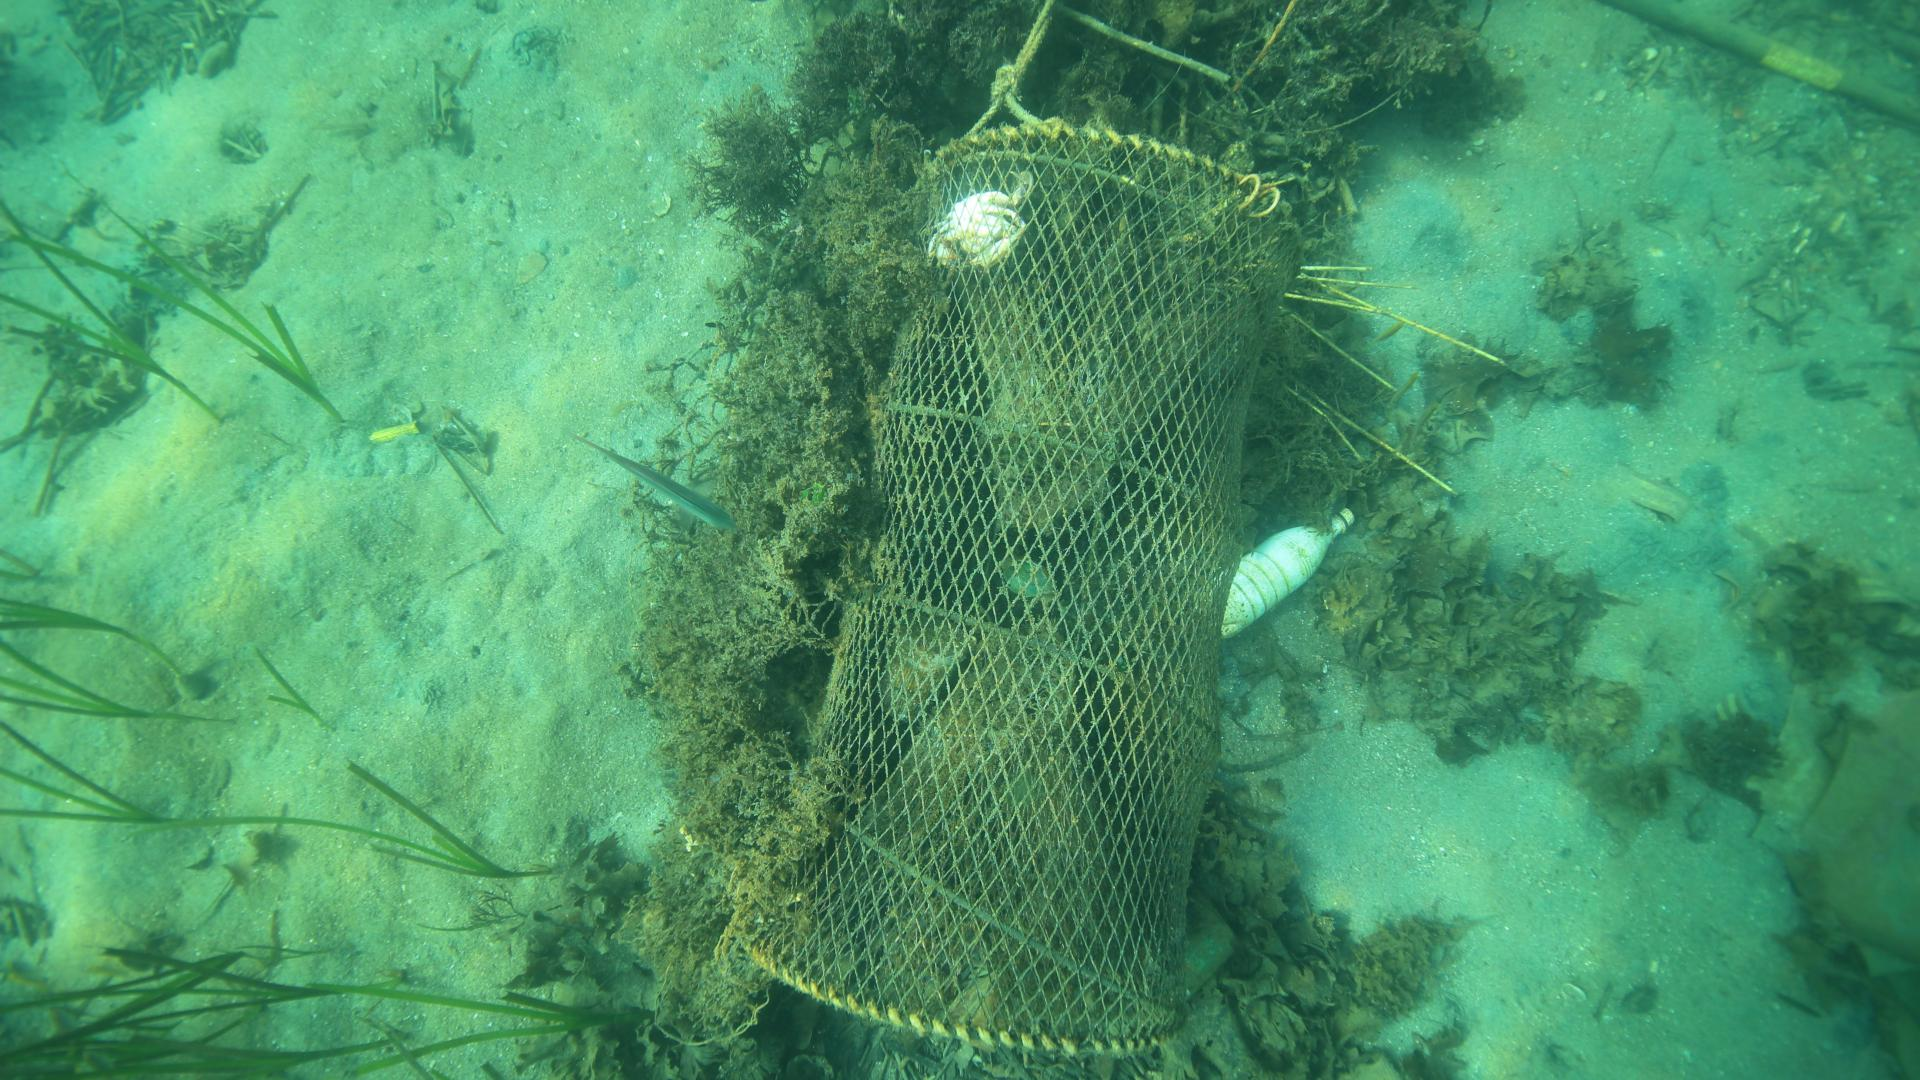bundle of ropes: (959, 0, 1058, 154)
spring fish trap: (733, 116, 1302, 1060)
